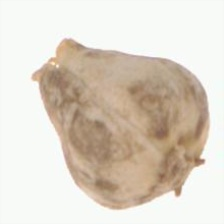L1: (30, 36, 72, 83), (164, 149, 203, 198)
L2: (30, 36, 211, 209)
